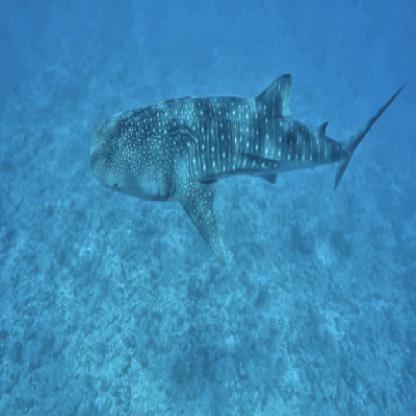Shark -Selachimorpha-: (87, 70, 410, 274)
